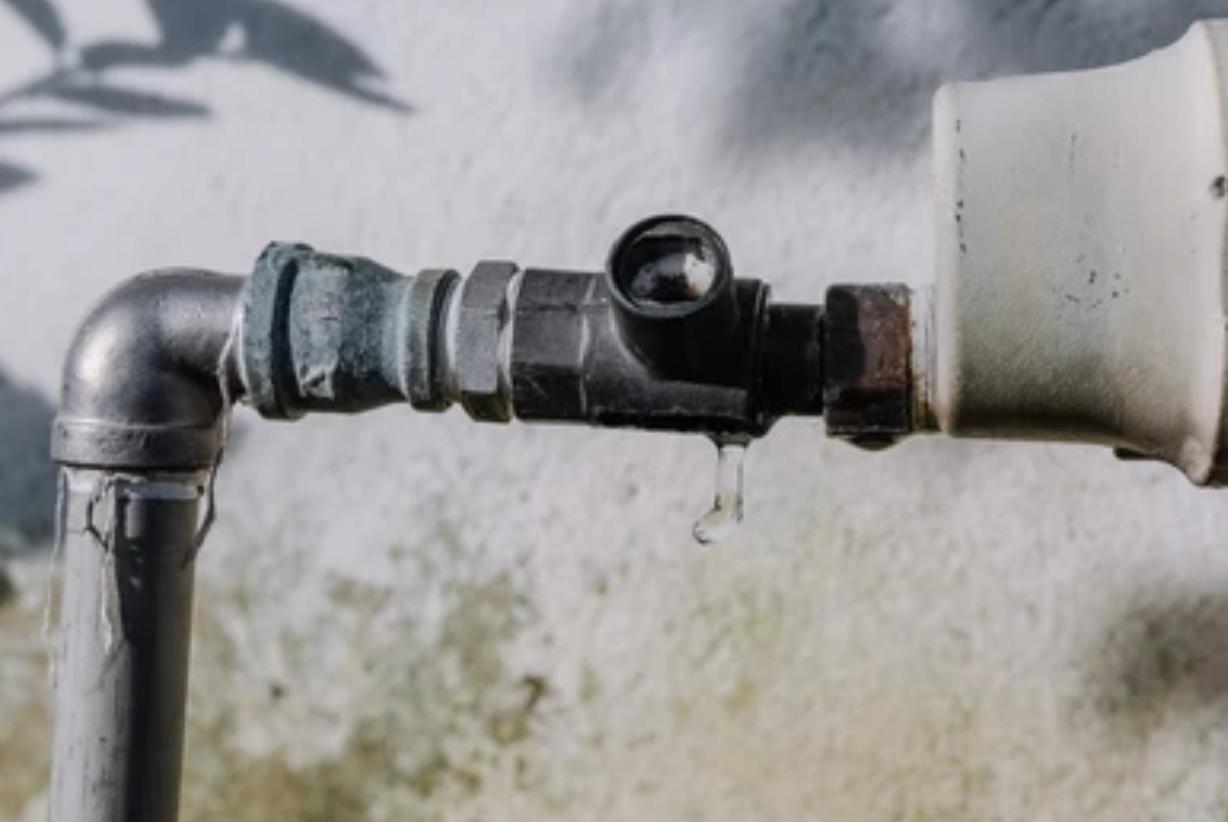water drop: (691, 436, 746, 544)
